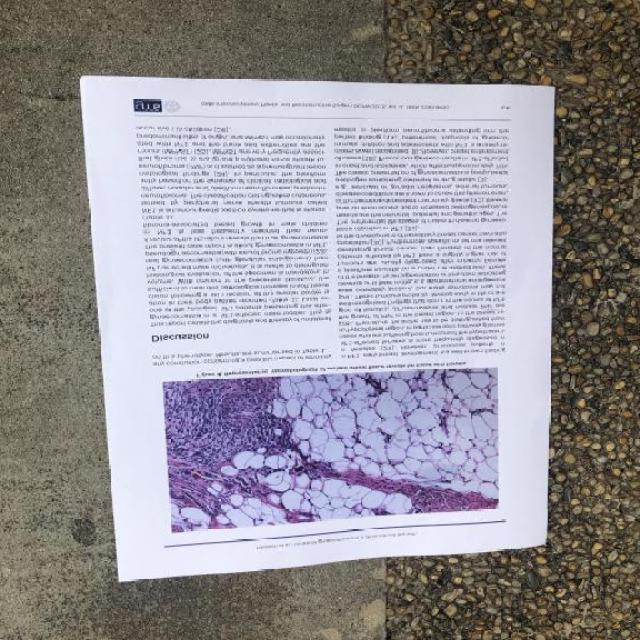kertas: (81, 76, 555, 581)
